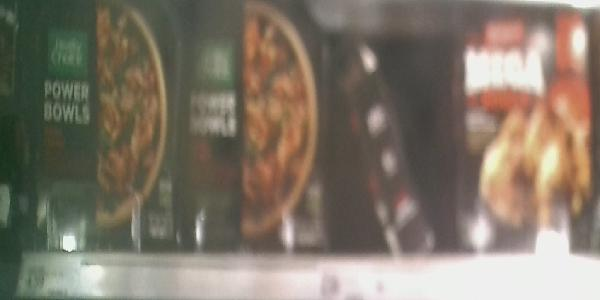pizza1: (30, 1, 181, 248), (180, 2, 329, 250), (462, 1, 594, 253)
